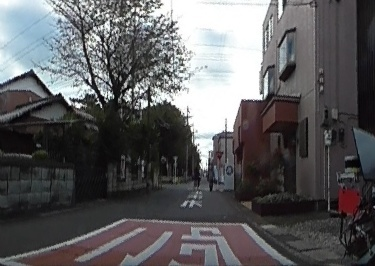person: (206, 165, 215, 191), (193, 164, 200, 190)
